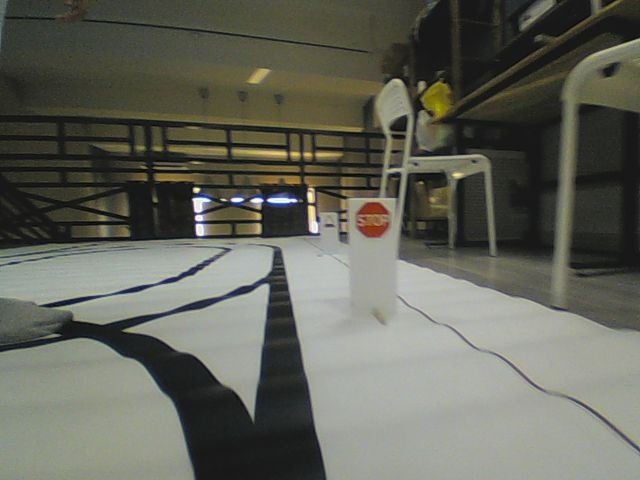Stop: (354, 201, 391, 239)
